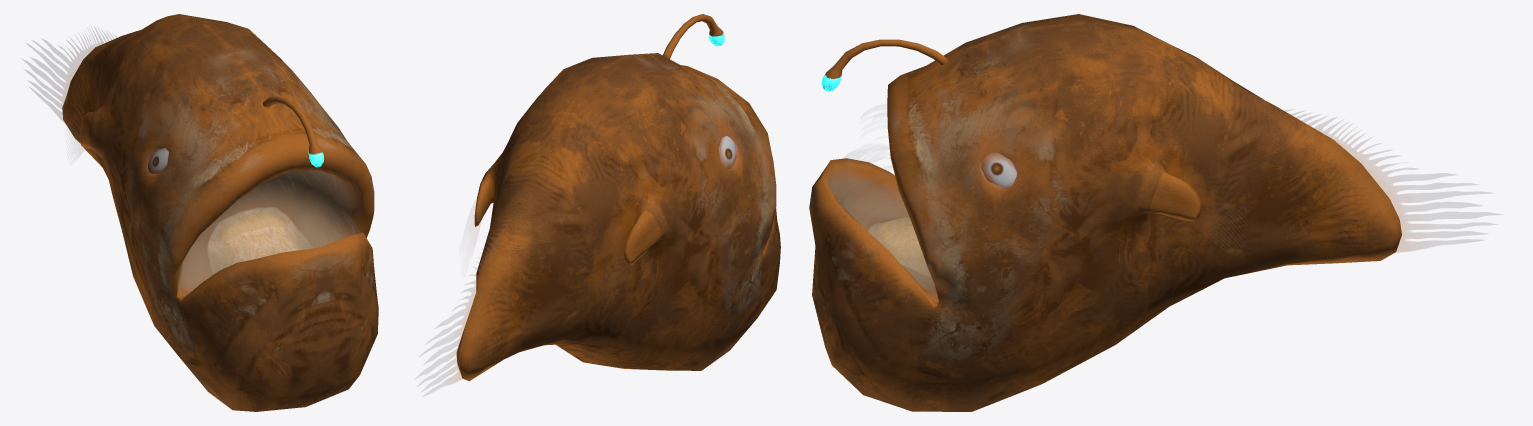
Rendered from anglerfish.glb.
The picture shows the model from 3 angles, left to right: view 1: azimuth 30°, elevation 25°; view 2: azimuth 150°, elevation 25°; view 3: azimuth 270°, elevation 25°; orthographic projection. The views are drawn at different scales.
Parts seen in each view (by area): view 1: Angler_low, Angler_LightTeethFins; view 2: Angler_low, Angler_LightTeethFins; view 3: Angler_low, Angler_LightTeethFins.
Part boxes in pixels (x1=…): Angler_low: x1=62, y1=14, x2=378, y2=411; Angler_LightTeethFins: x1=22, y1=28, x2=116, y2=122; Angler_low: x1=456, y1=14, x2=780, y2=381; Angler_LightTeethFins: x1=416, y1=214, x2=512, y2=396; Angler_low: x1=809, y1=14, x2=1401, y2=411; Angler_LightTeethFins: x1=1284, y1=109, x2=1502, y2=252.
Bounding box in the file's own units: 38.88 × 59.46 × 103.
2 materials, 2 textured.
